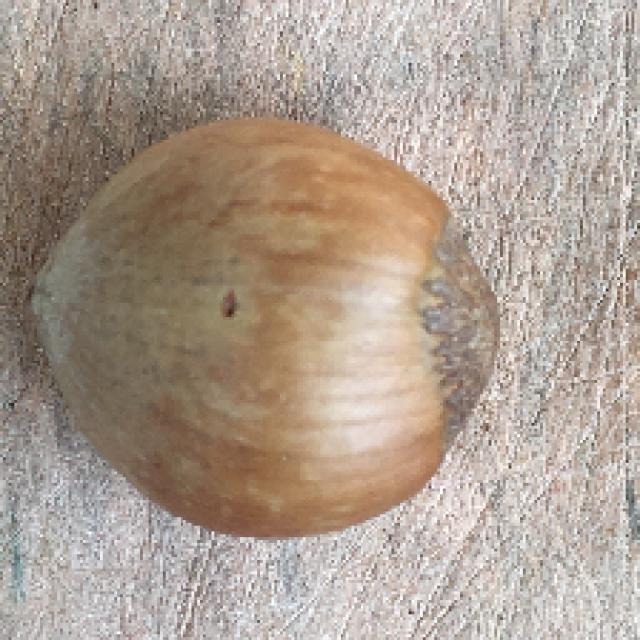qualityHazelnut: (48, 115, 493, 540)
